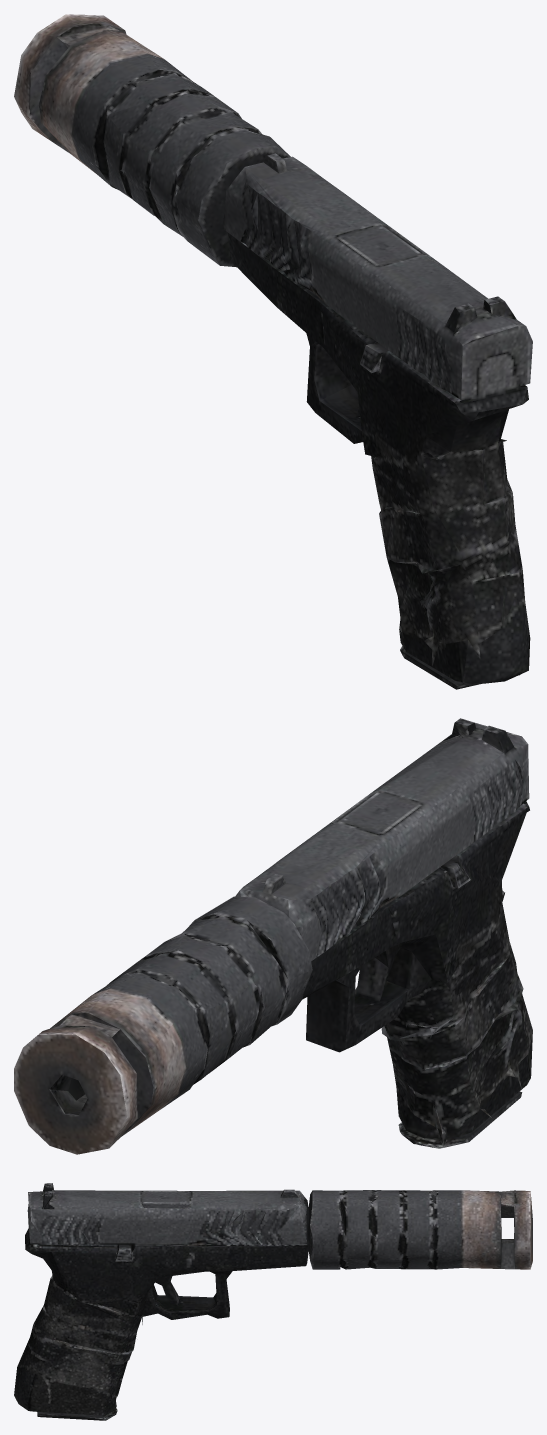
File: hush_tp.glb
3 renders of one model, top to bottom at view 1: azimuth 30°, elevation 25°; view 2: azimuth 150°, elevation 25°; view 3: azimuth 270°, elevation 25°, orthographic. The views are drawn at different scales.
Visible parts, largest first — view 1: hush_tp; view 2: hush_tp; view 3: hush_tp.
Part boxes in pixels (x1,y1,x2,y2): hush_tp: (14,14,532,689); hush_tp: (14,718,532,1154); hush_tp: (14,1183,532,1420).
Bounding box in the file's own units: 0.0378 × 0.119 × 0.2499.
Materials: 1 (1 with a texture image).
